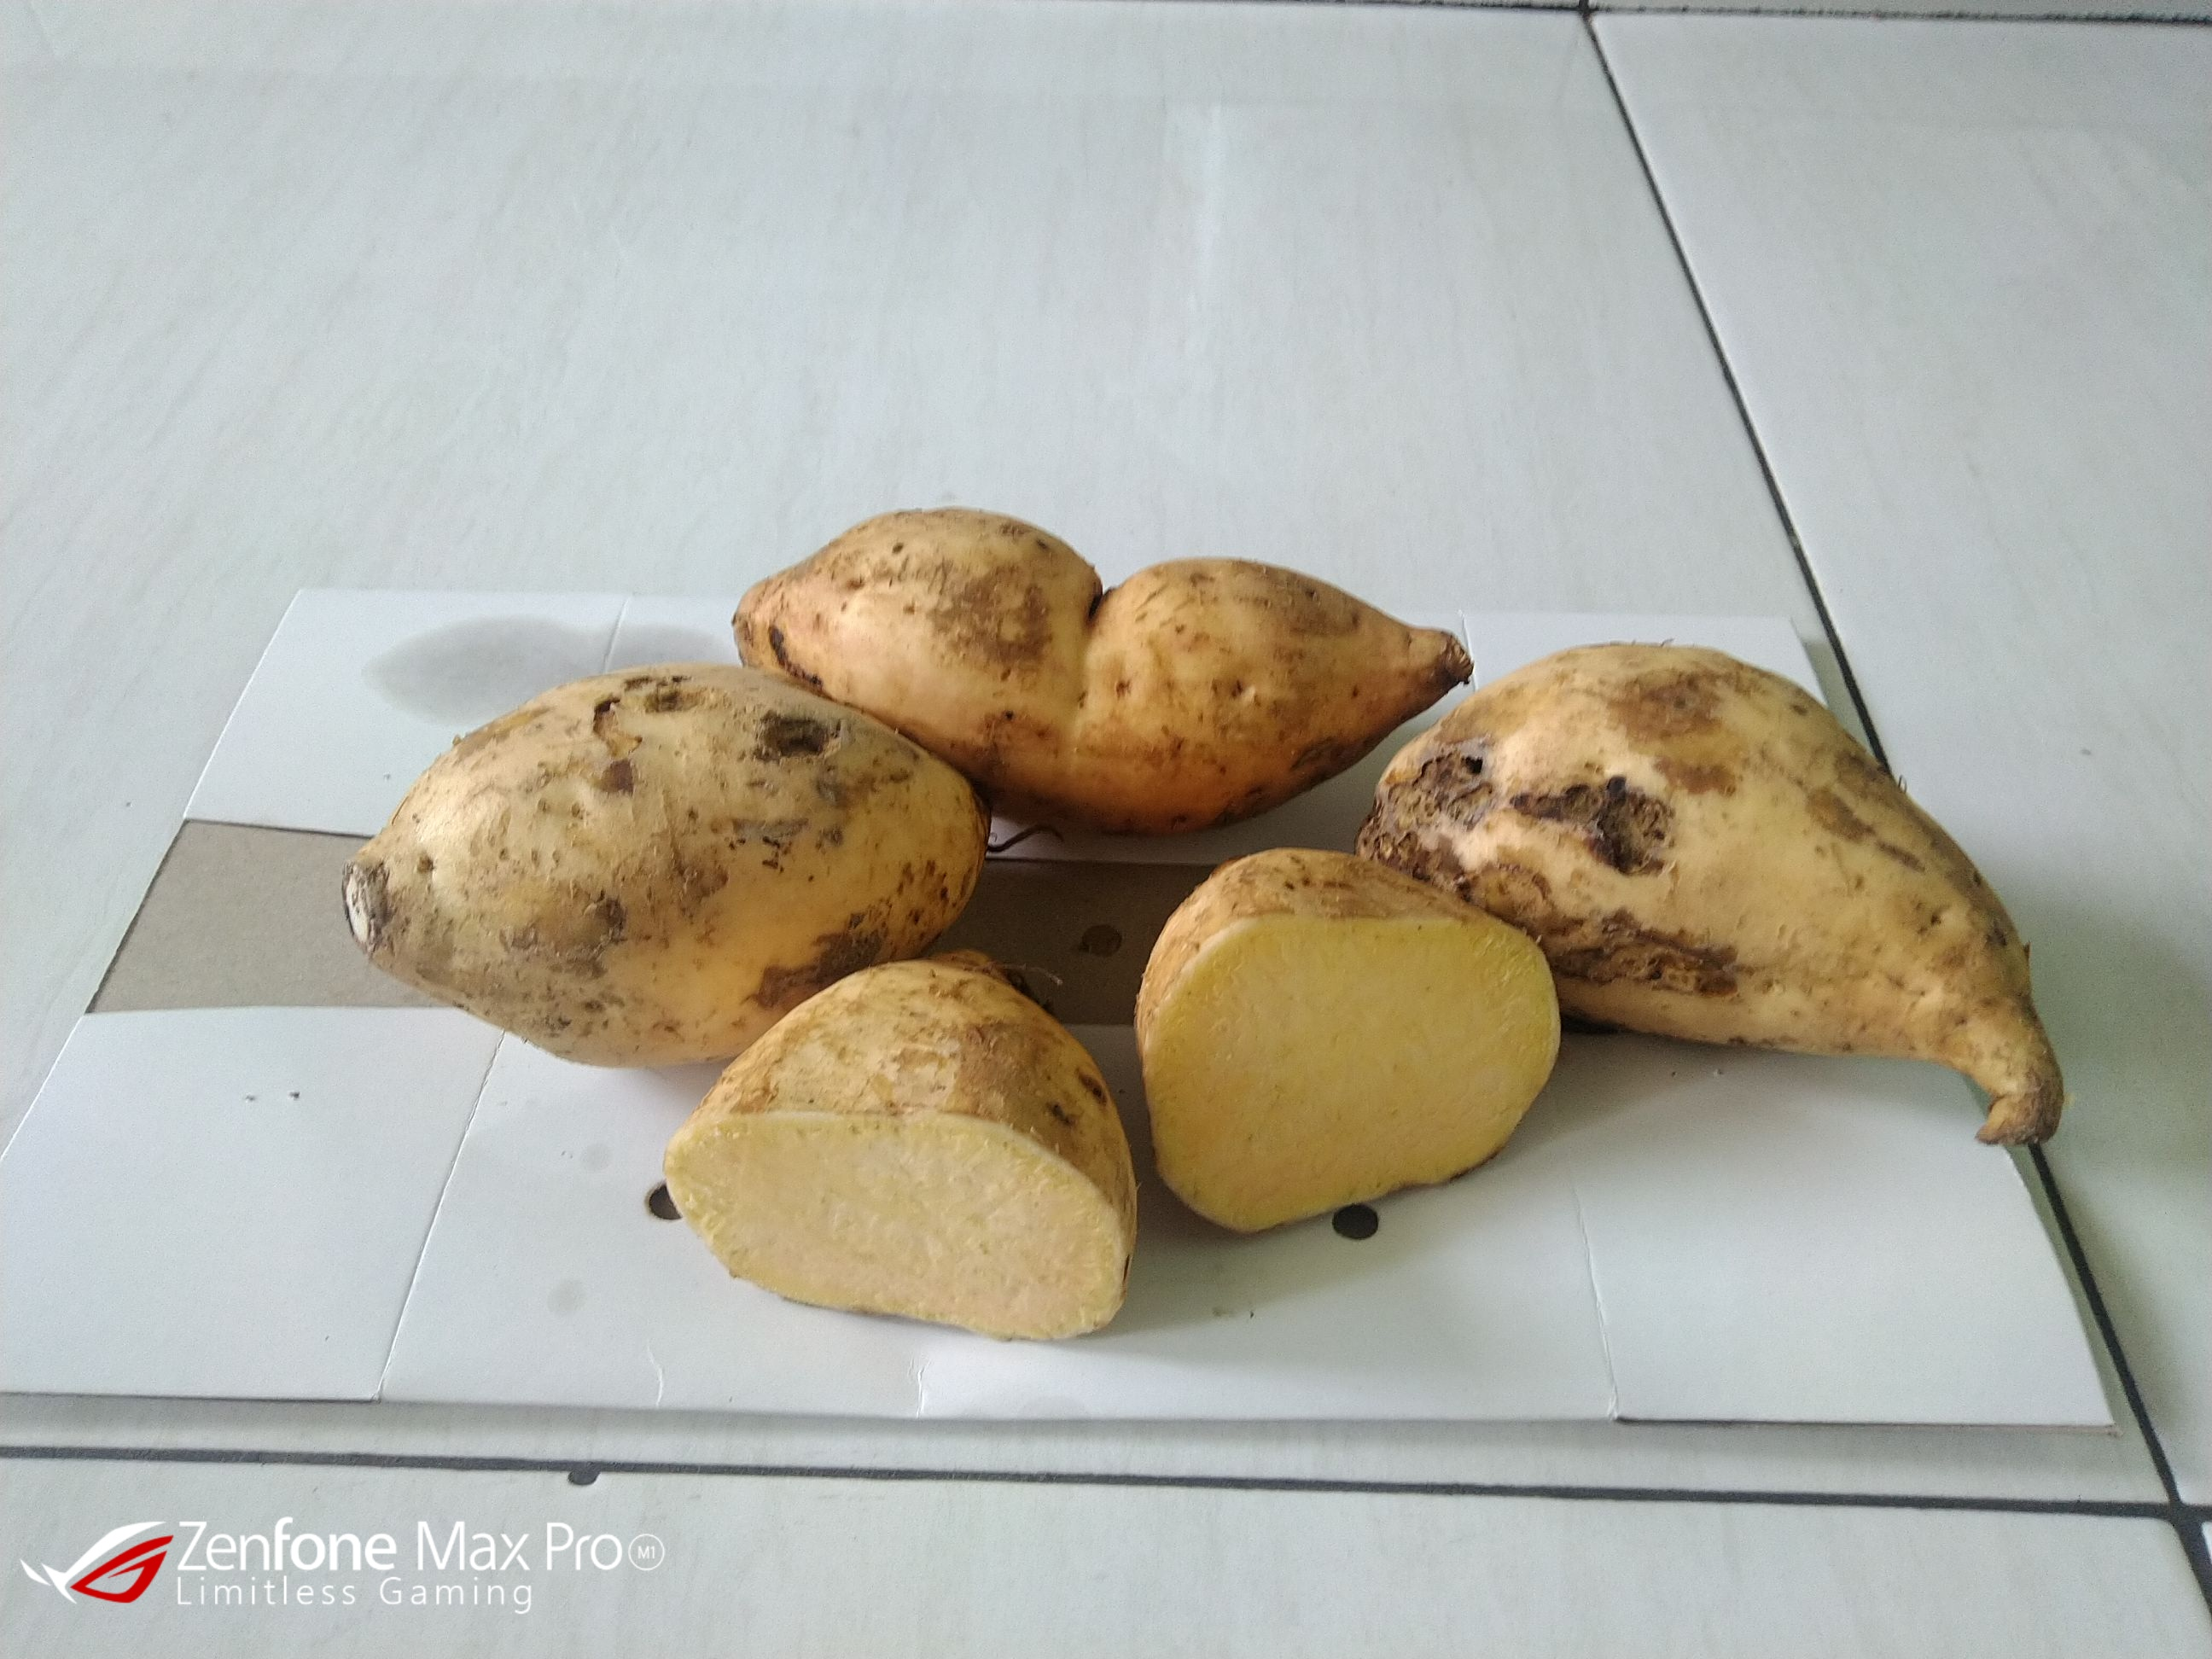ubi kuning: (340, 451, 2076, 1338), (1360, 626, 2113, 1162), (312, 660, 1005, 1070), (726, 486, 1474, 842), (662, 946, 1153, 1347), (1120, 840, 1580, 1234)
